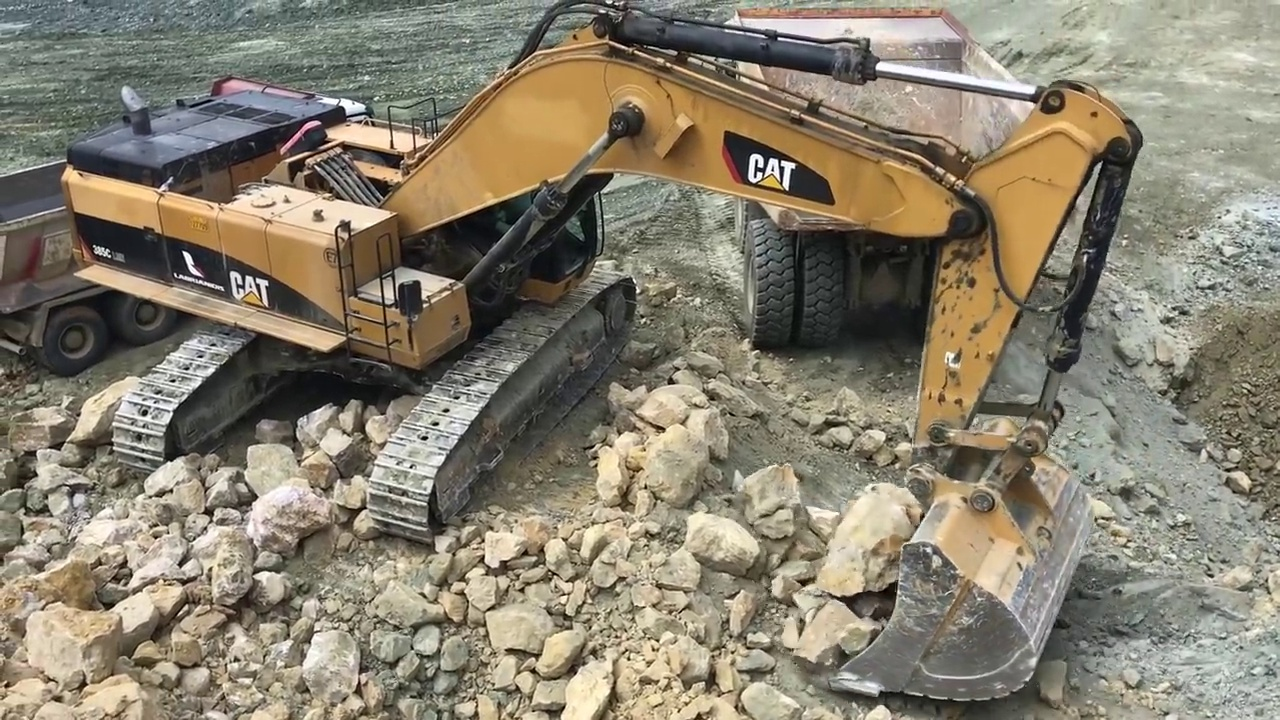dumper: (729, 4, 1070, 357)
excavator: (55, 4, 1148, 705)
truck: (4, 75, 388, 377)
